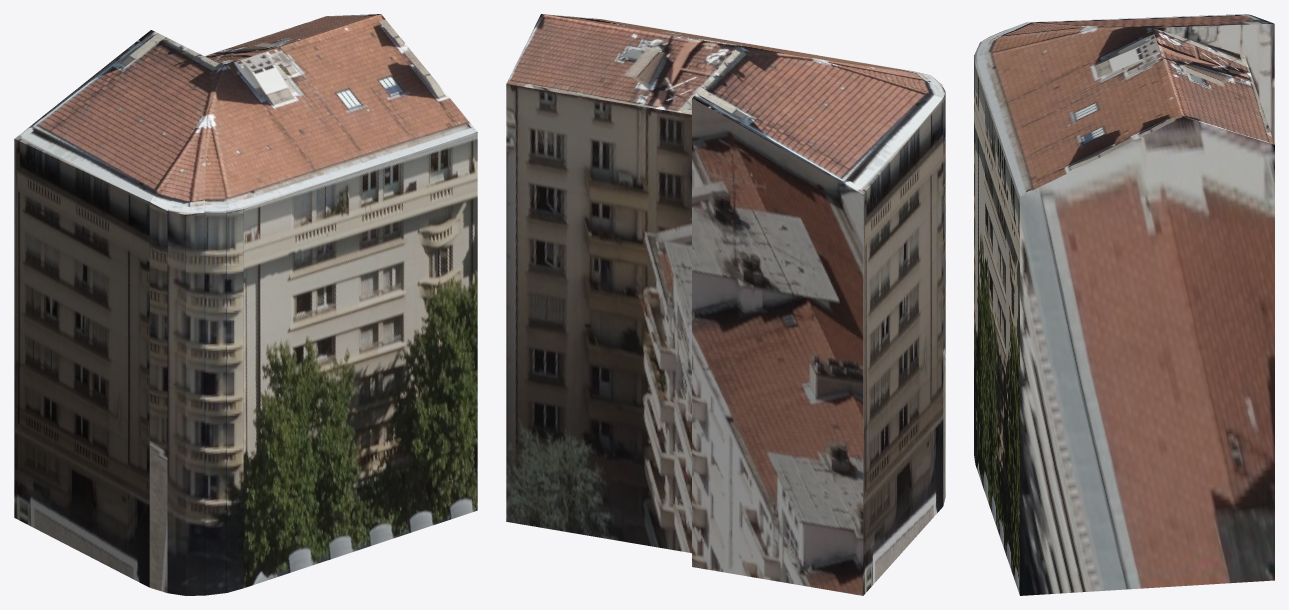
The picture shows the model from 3 angles, left to right: view 1: azimuth 30°, elevation 25°; view 2: azimuth 150°, elevation 25°; view 3: azimuth 270°, elevation 25°; orthographic projection. The views are drawn at different scales.
Parts seen in each view (by area): view 1: Z_UP; view 2: Z_UP; view 3: Z_UP.
Boxes of the visible parts, x1,y1,x2,y2 form: Z_UP: [14, 14, 477, 595]; Z_UP: [506, 14, 945, 595]; Z_UP: [974, 14, 1274, 595].
Bounding box in the file's own units: 23.11 × 27.73 × 16.09.
2 materials, 1 textured.
